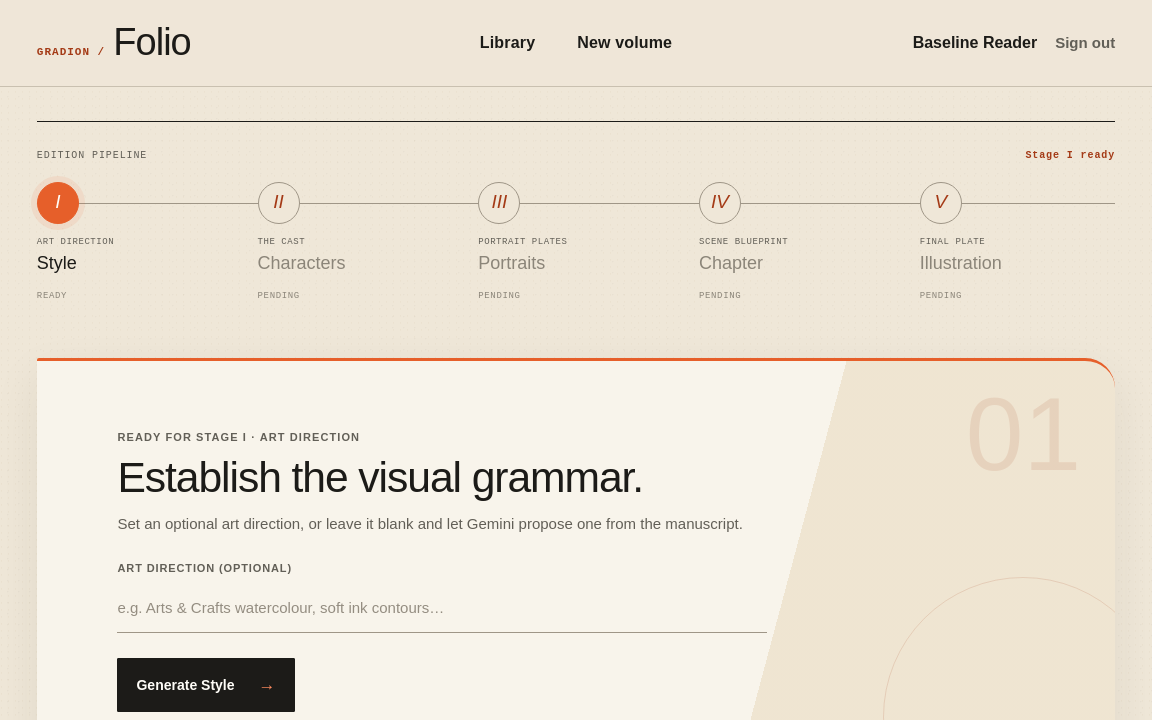
Test: StudioPage persisted state mapping › keeps an advanced pending step Ready while the preceding Run mutation settles
Click the button "Generate Style →" at (206, 685), box [118,658,295,712]
Wait 1600 ms
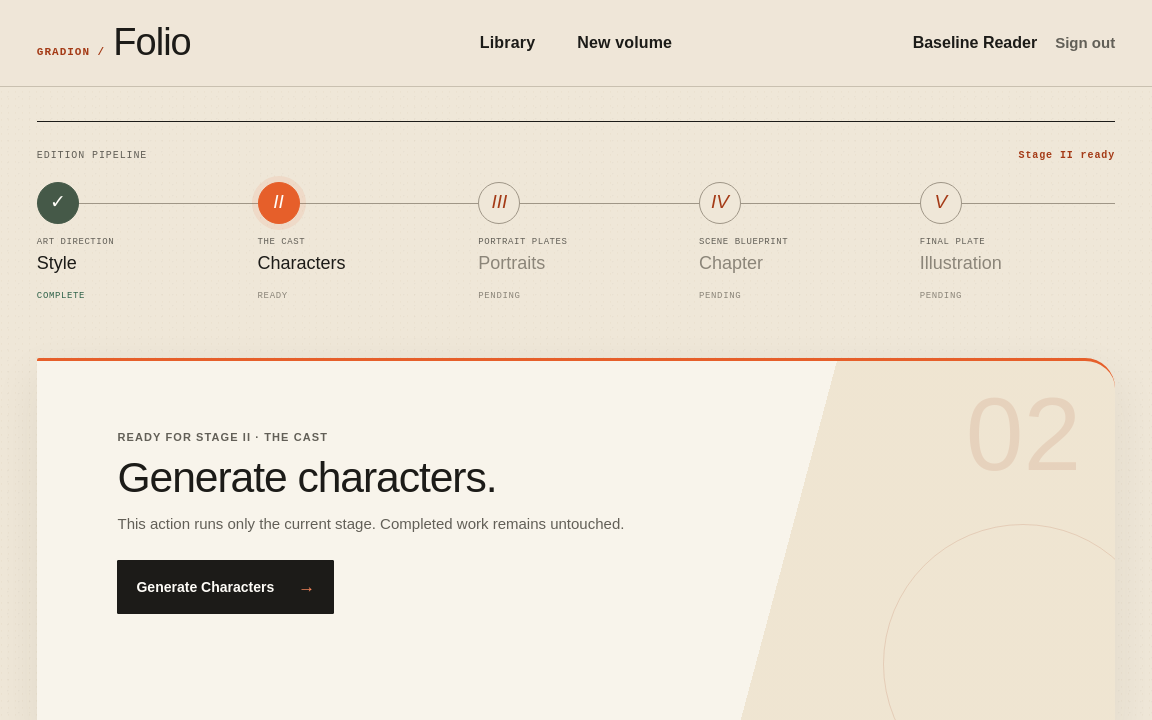
Now the heading "Generate characters." is shown, box [118,452,496,500]
Now the list item with aria-label "Step 2 of 5, Characters, Ready" is shown, box [258,182,346,301]
